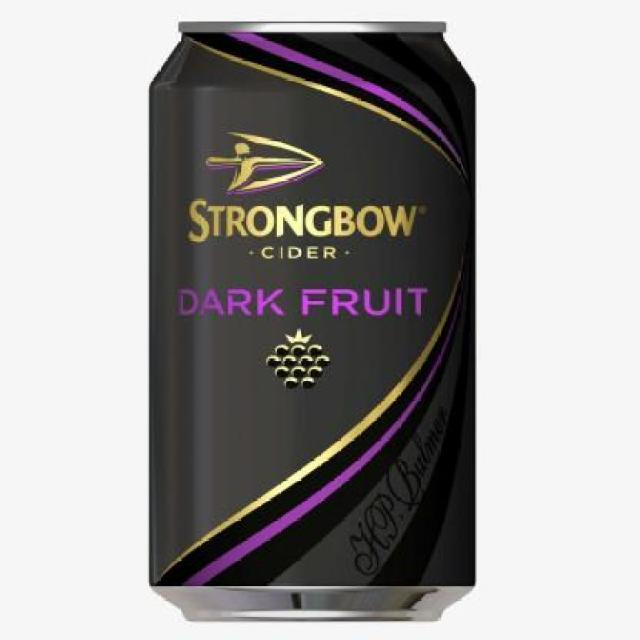metal-can: (140, 13, 484, 633)
